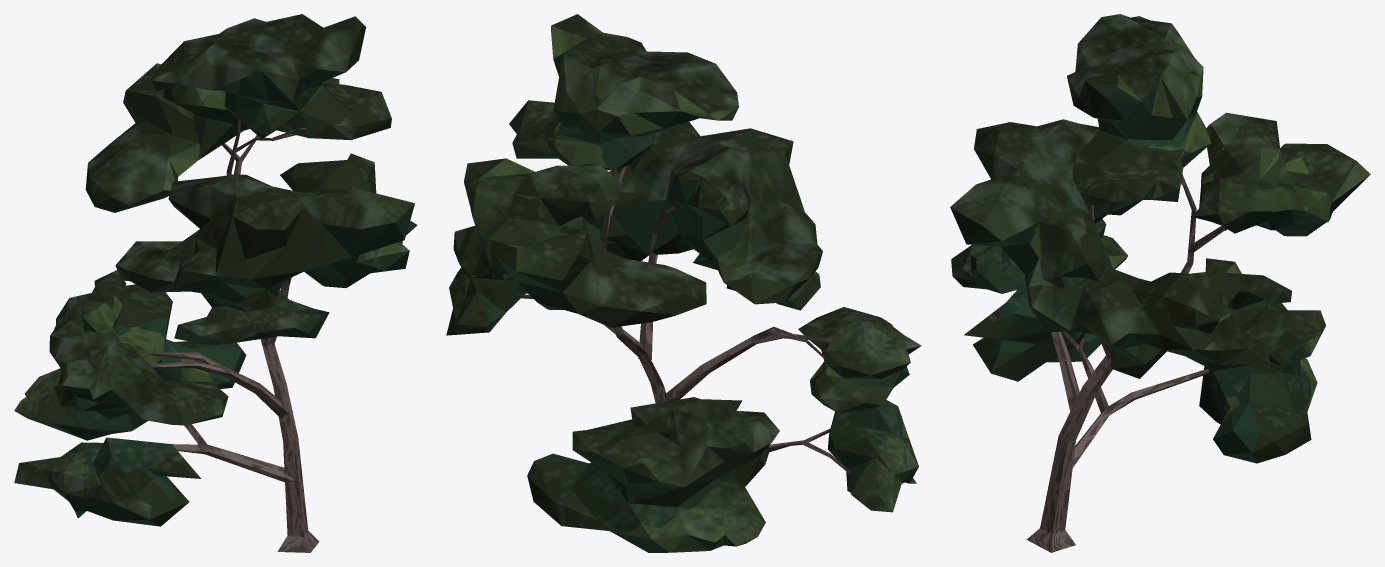
File: tree-lowpoly.glb
The picture shows the model from 3 angles, left to right: view 1: azimuth 30°, elevation 25°; view 2: azimuth 150°, elevation 25°; view 3: azimuth 270°, elevation 25°; orthographic projection. The views are drawn at different scales.
Parts seen in each view (by area): view 1: tree; view 2: tree; view 3: tree.
Part boxes in pixels (x1,y1,x2,y2): tree: [14, 14, 417, 552]; tree: [446, 14, 921, 552]; tree: [950, 14, 1370, 552].
Bounding box in the file's own units: 2.02 × 2.39 × 1.81.
Materials: 1 (1 with a texture image).
